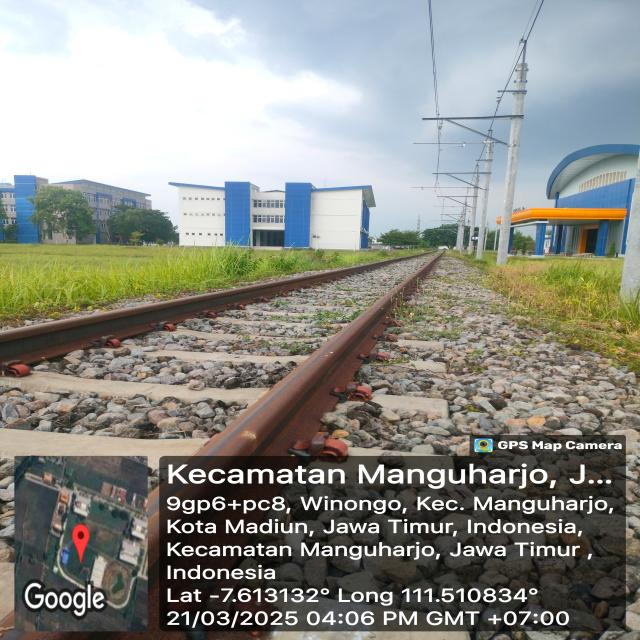rail-detection: (196, 251, 444, 456), (0, 255, 420, 371)
